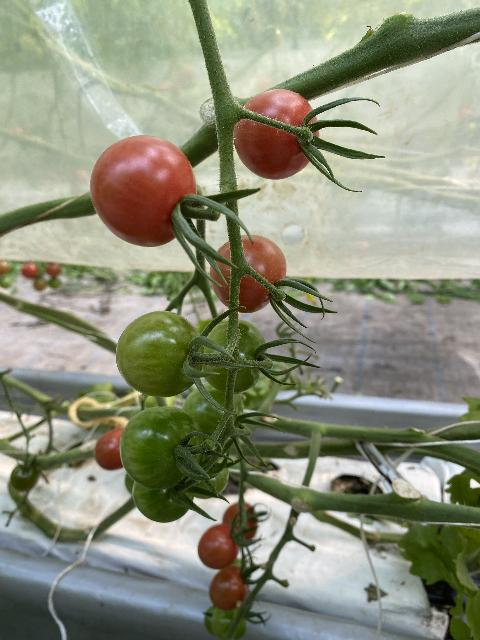l_fully_ripened: (90, 135, 197, 247), (234, 90, 320, 180), (210, 235, 287, 314)
l_green: (115, 309, 204, 398), (119, 406, 205, 490), (200, 321, 267, 393), (183, 383, 244, 447), (132, 470, 199, 523), (196, 447, 229, 498)
